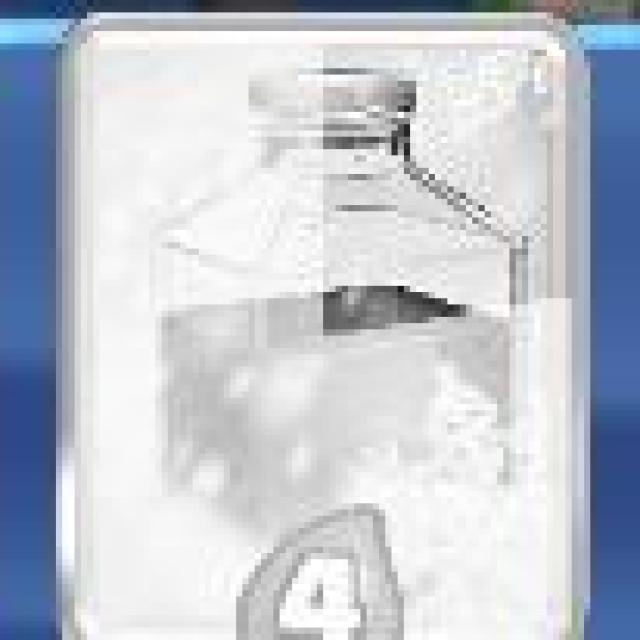Freeze: (59, 11, 591, 640)
